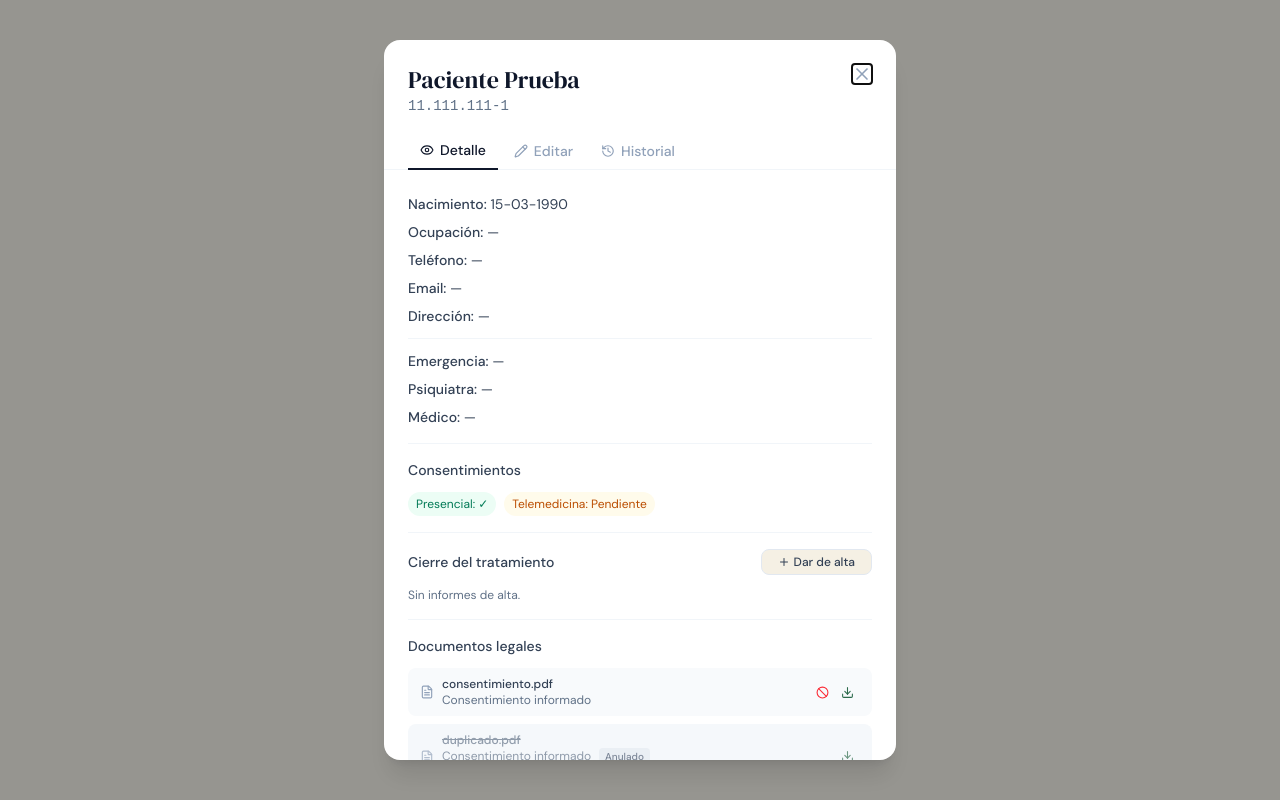
Test: PatientModal — anular documentos legales (#270) › envía el motivo, cierra el diálogo y refresca el estado de consentimiento
Step 1. Click the button named "Anular consentimiento.pdf" → x=822, y=692, box [810,680,835,704]
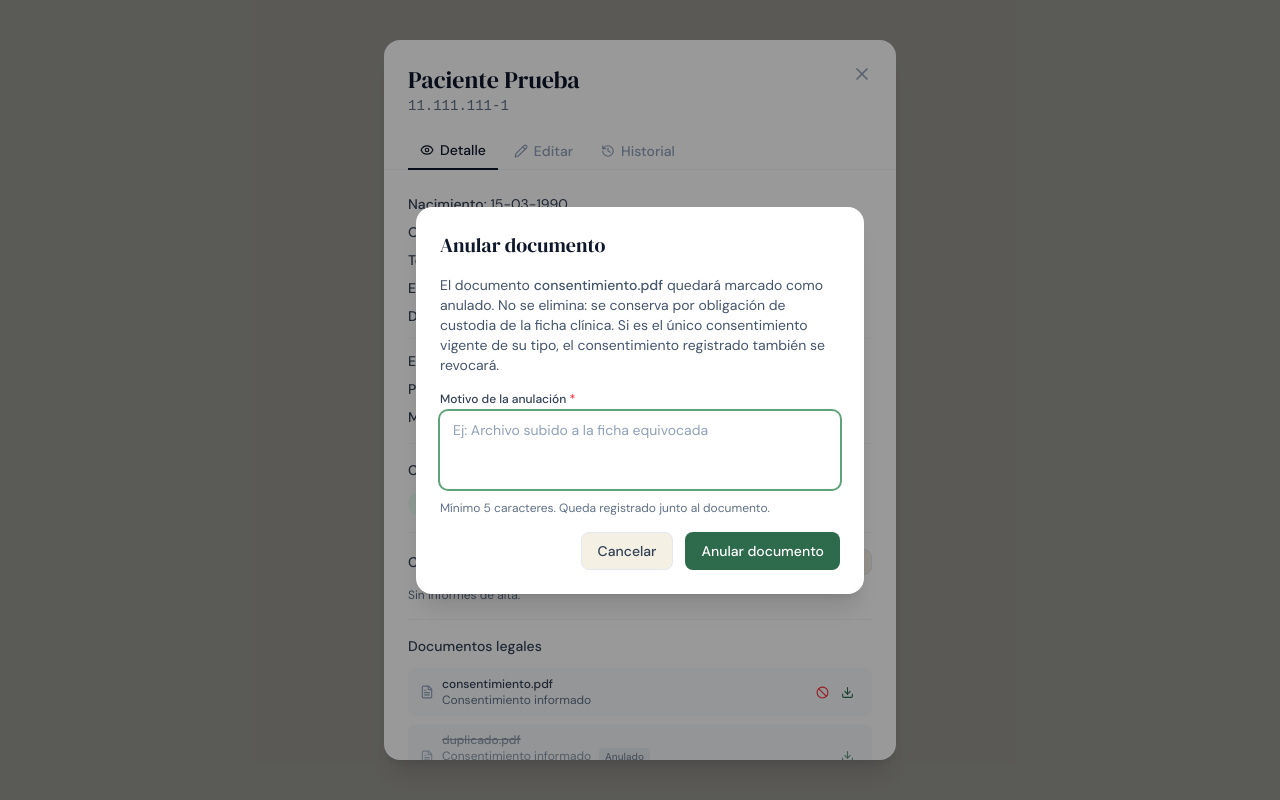
Step 2. Type "  Archivo equivocado  " into the text box labelled "Motivo de la anulación *" → x=640, y=450, box [440,410,840,488]
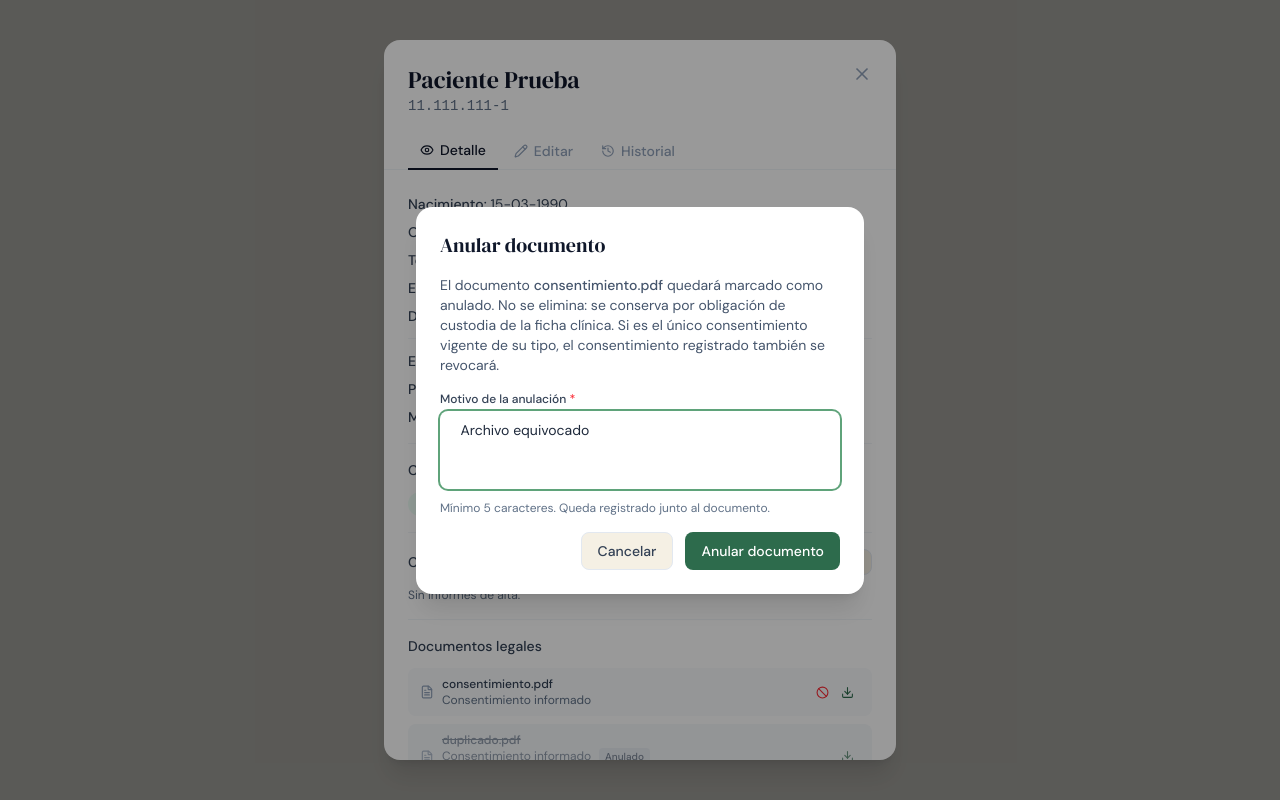
Step 3. Click the button "Anular documento" → x=763, y=550, box [686,532,840,570]
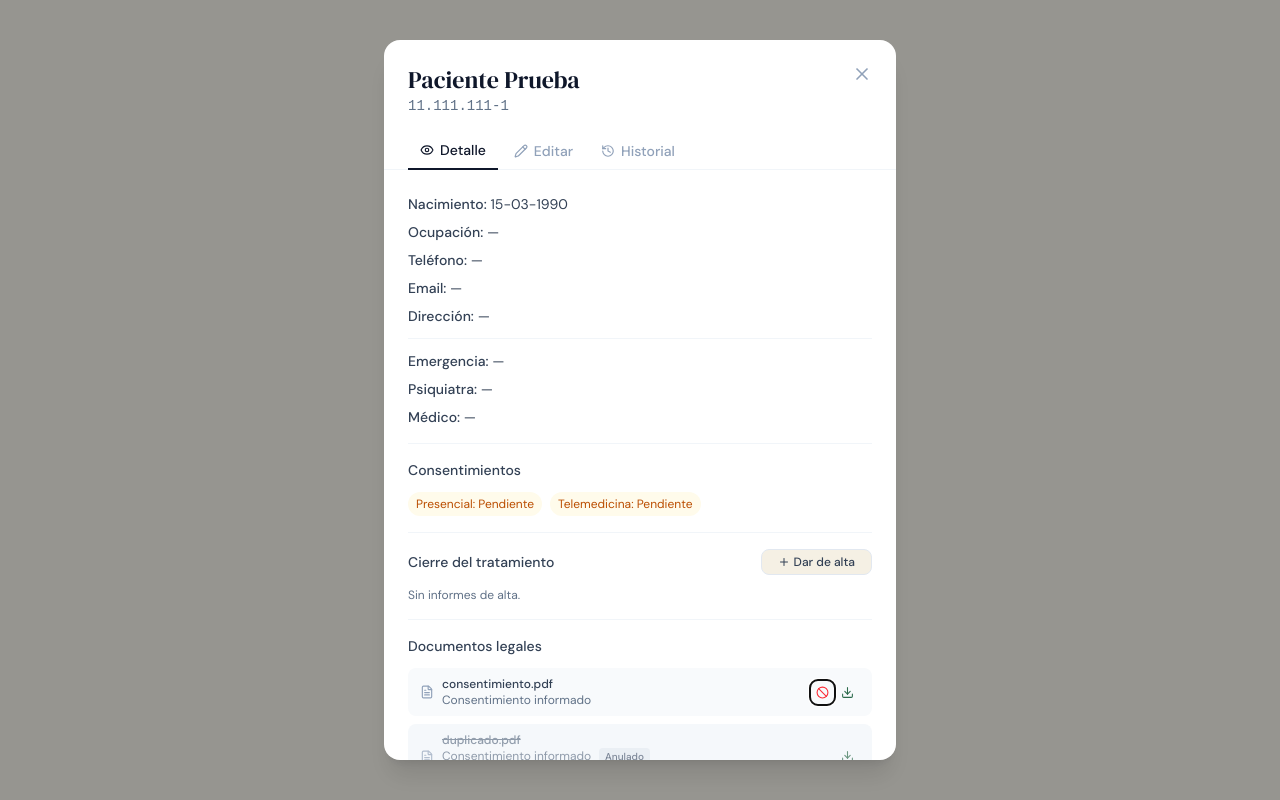
Result: the heading "Anular documento" is gone
Result: the text "Presencial: Pendiente" is shown at [408,492,542,516]
